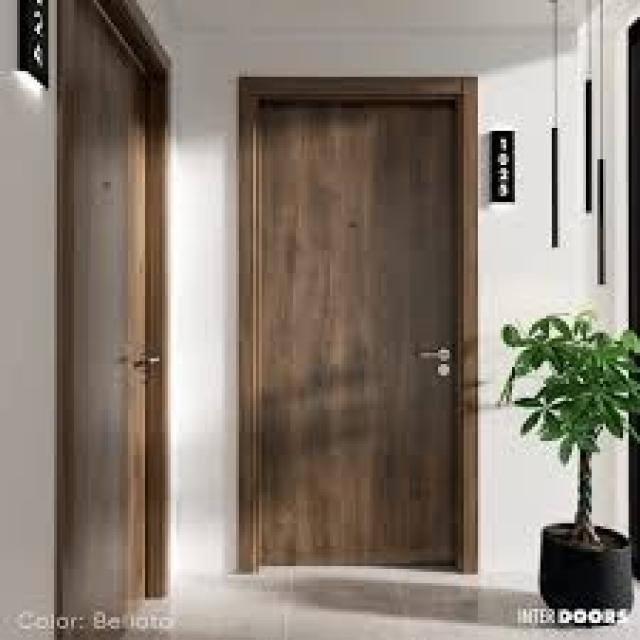door: (240, 78, 468, 573)
